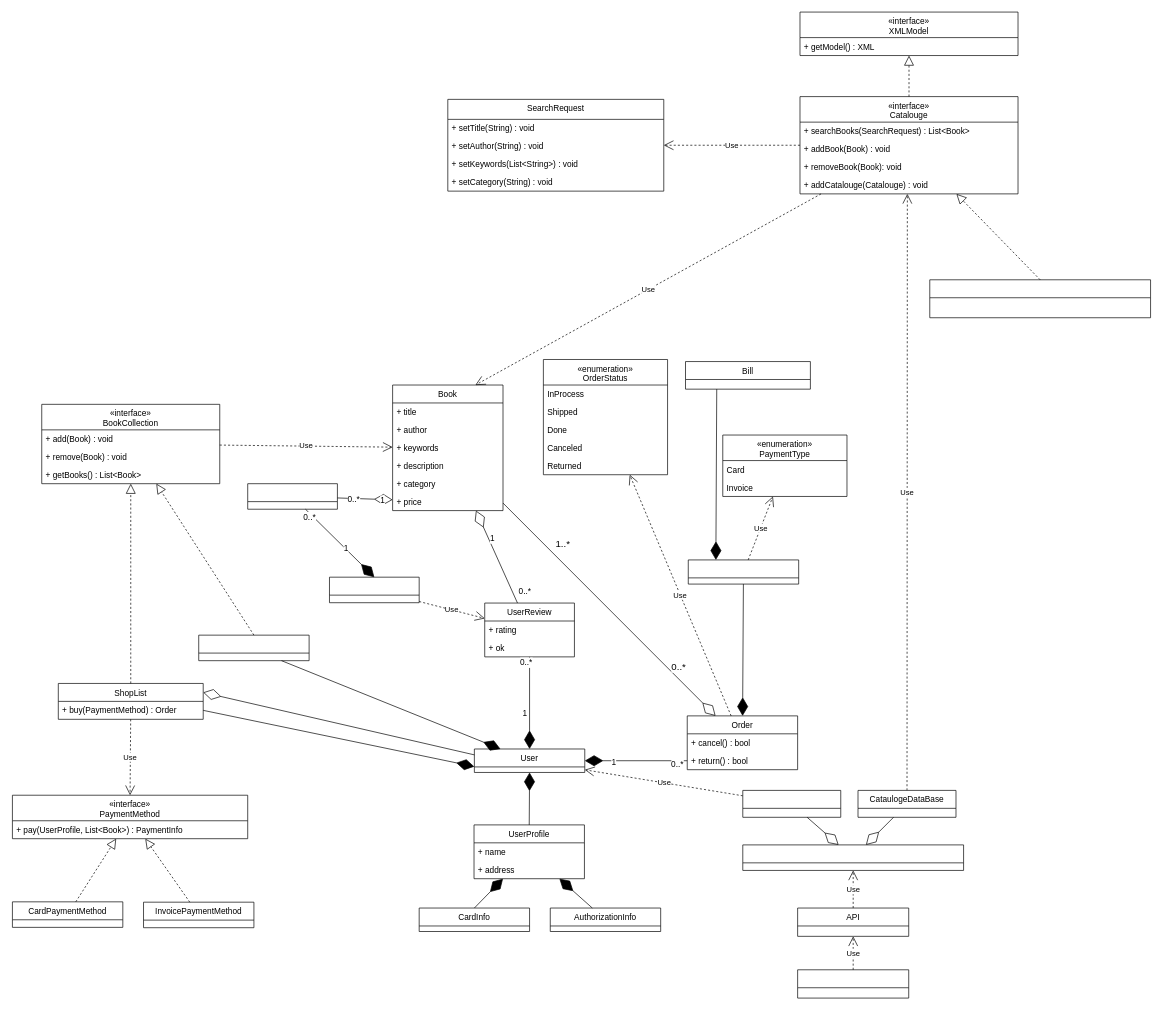
This 1163x1010 diagram has some shape labels left out. The centre of each missing label's shape, as x and y in pixels:
"Admin" goes at point (374, 589).
"AdminReview" goes at point (292, 496).
"BookStoreController" goes at point (853, 857).
"MainCatalouge" goes at point (1040, 298).
"PaymentInfo" goes at point (743, 571).
"UserDataBase" goes at point (791, 803).
"WebInterface" goes at point (853, 983).
"WishList" goes at point (253, 647).
